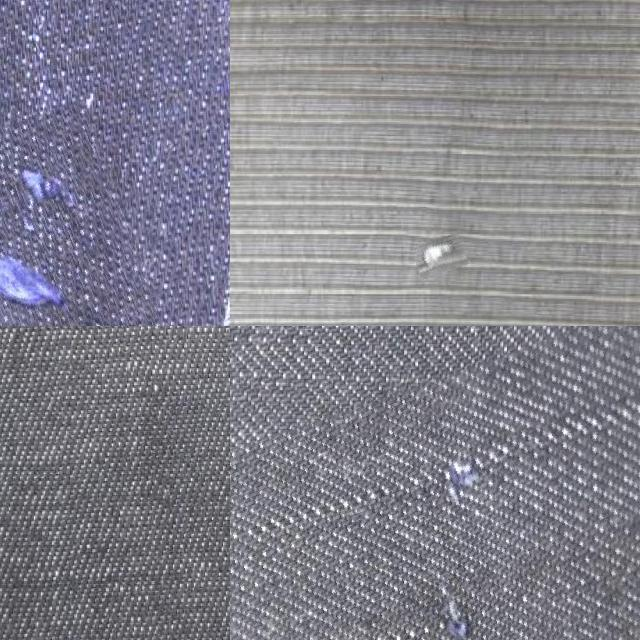Thread_other: (230, 331, 640, 640), (0, 111, 148, 326)
seam: (413, 235, 467, 277)
